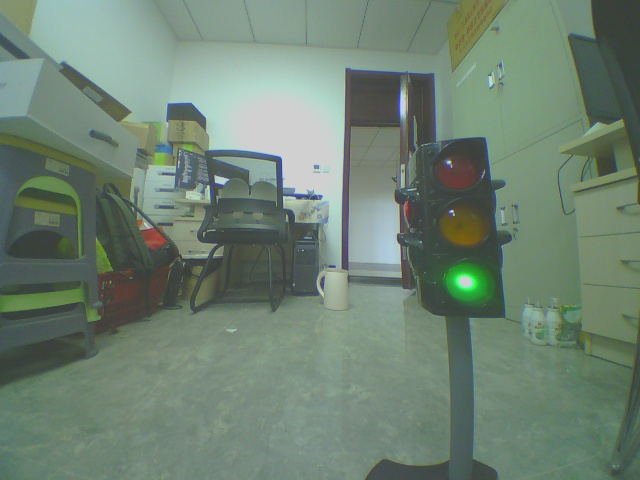Green: (399, 110, 538, 331)
